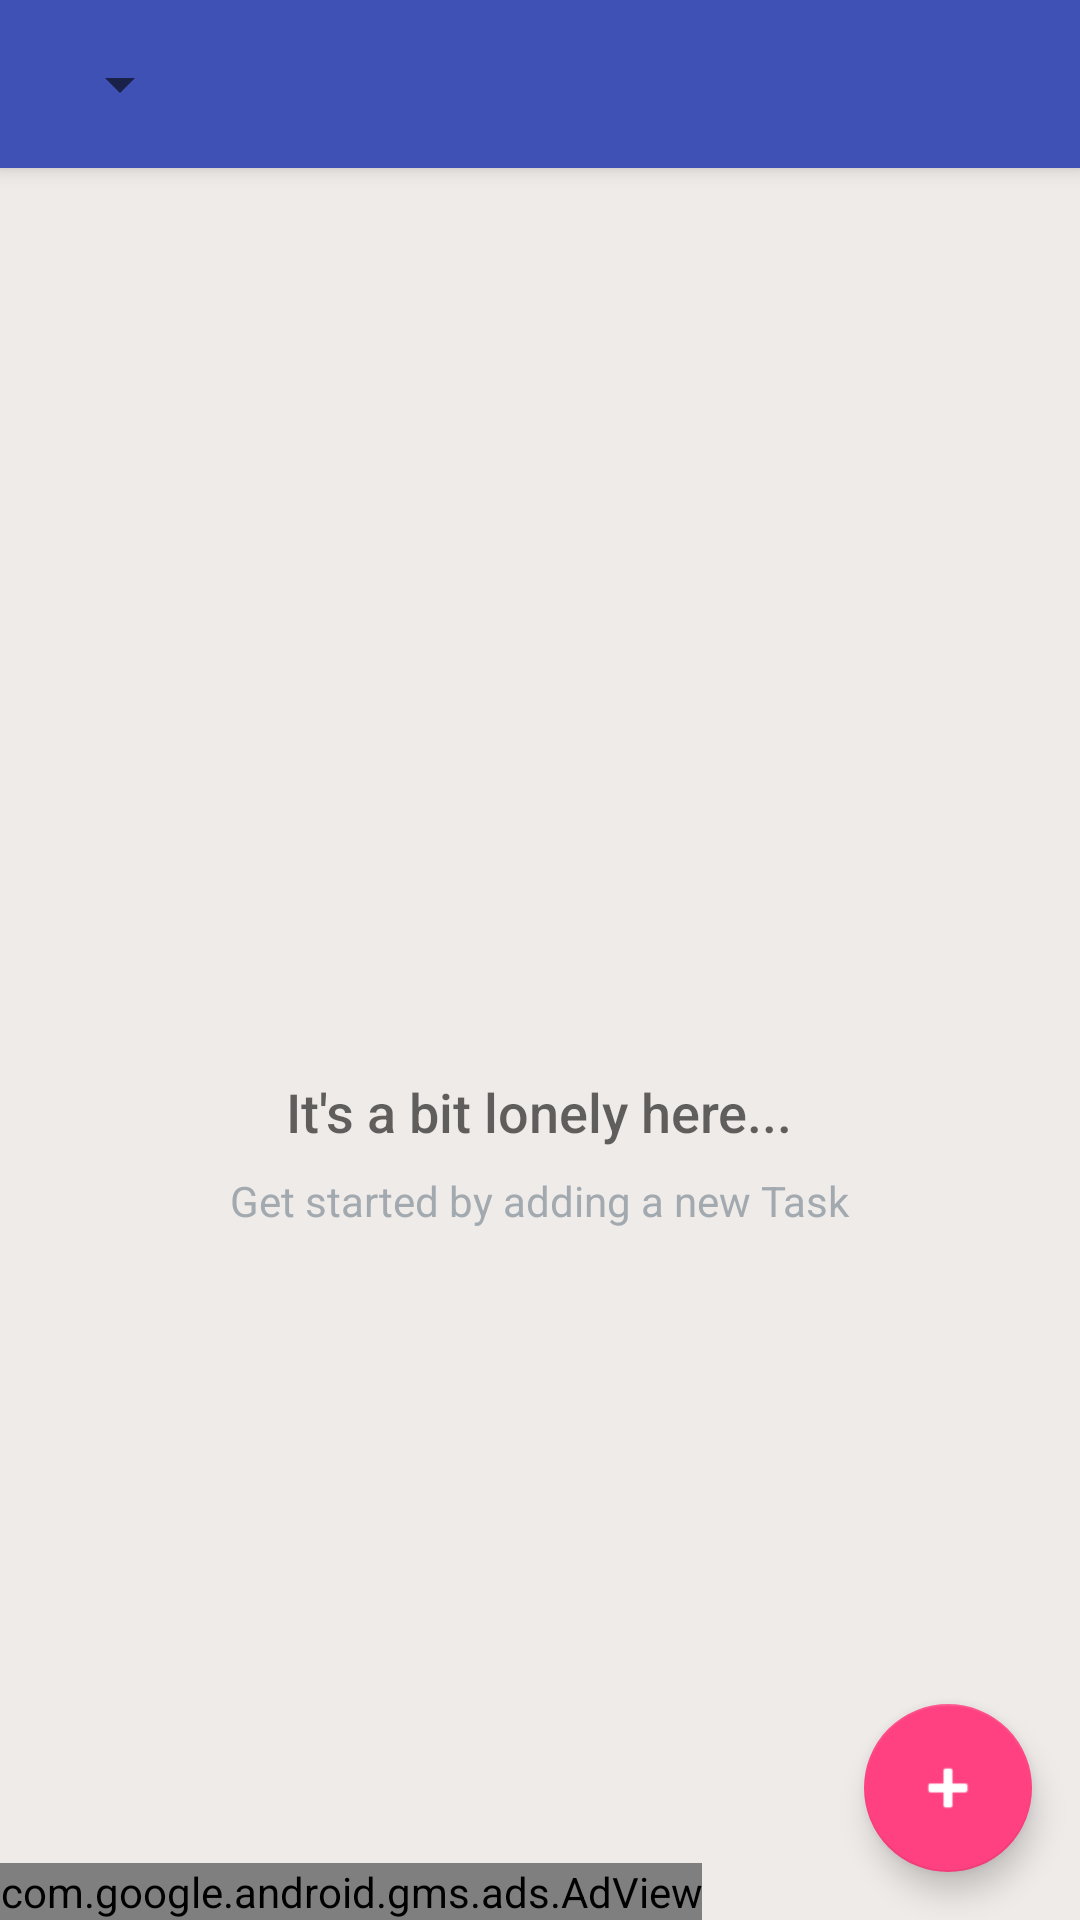

Locate icon controls on the screen. Image size 1080×1920, boxes as {"left": x1, "top": y1, "right": x2, "bottom": y2}.
Add Task: {"left": 864, "top": 1704, "right": 1032, "bottom": 1872}
